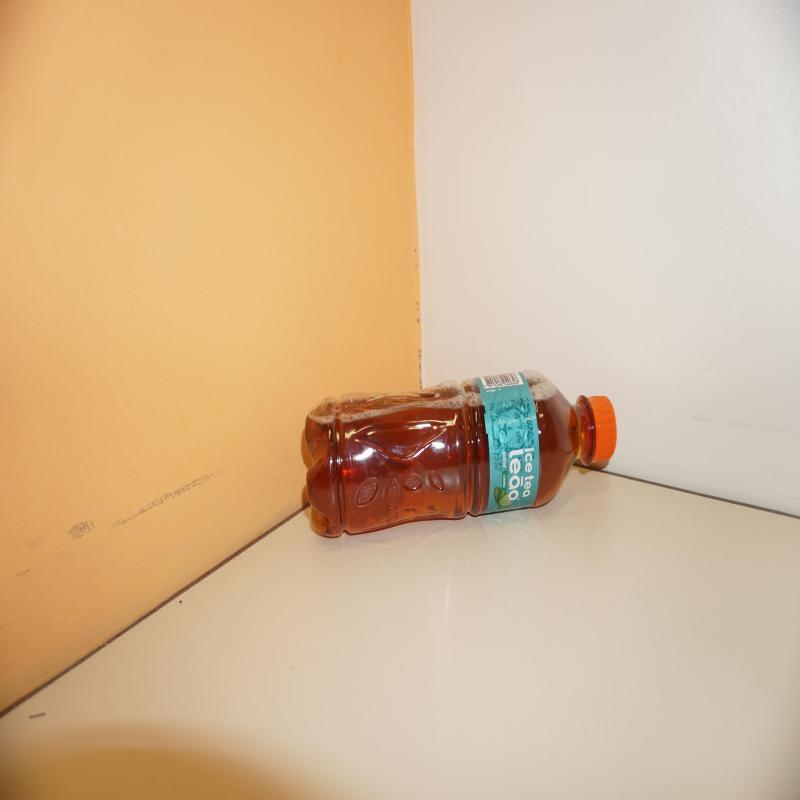IceTea: (301, 370, 618, 540)
